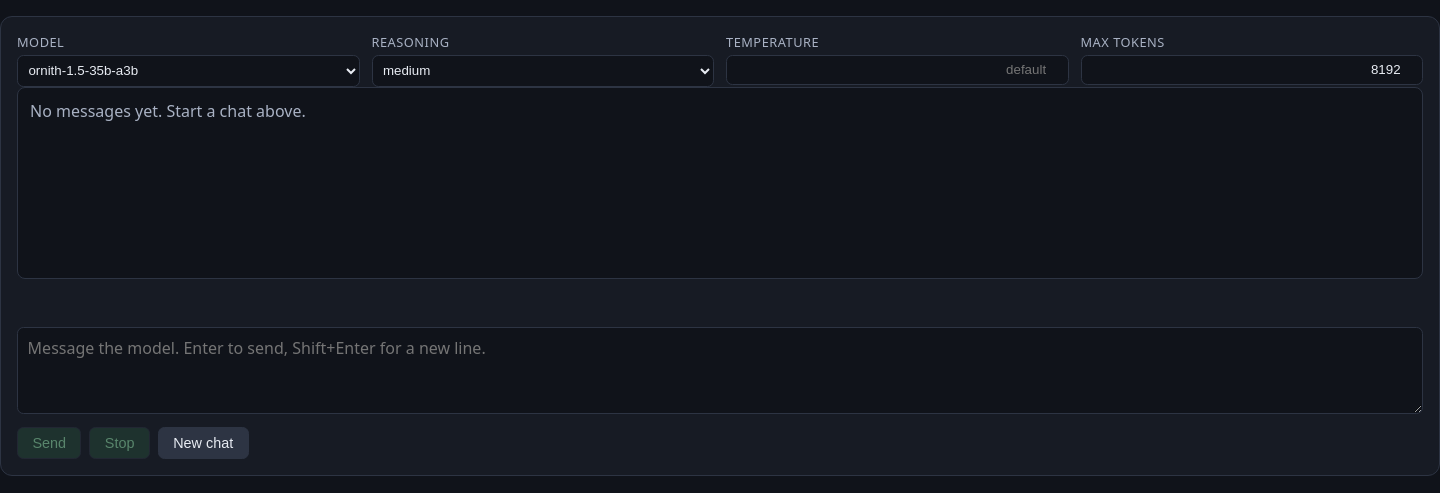
Test: ChatPlayground › disables sending while generating and lets the user stop
Replace the text in the text box with test id "prompt-input" with "Go" at coordinates (720, 370), box [17,327,1423,414]
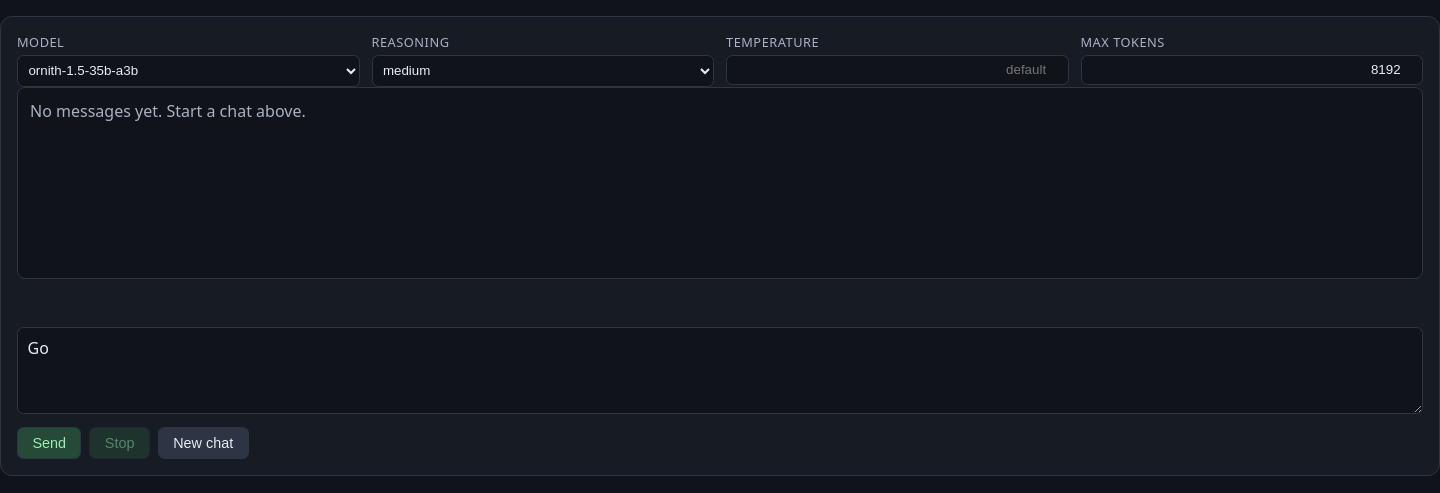
Click the button with test id "send-button" at coordinates (49, 443), box [17,427,81,459]
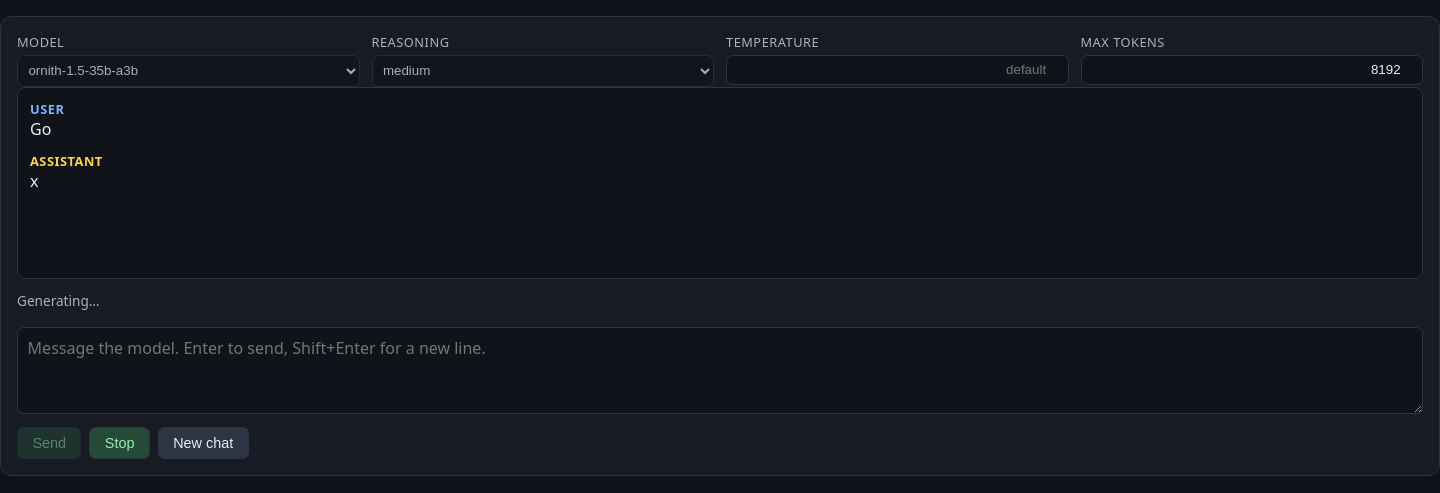
Result: the text "x" is shown at [30,170,38,192]
Result: the button with test id "stop-button" is enabled
Click the button with test id "stop-button" at coordinates (120, 443), box [89,427,150,459]
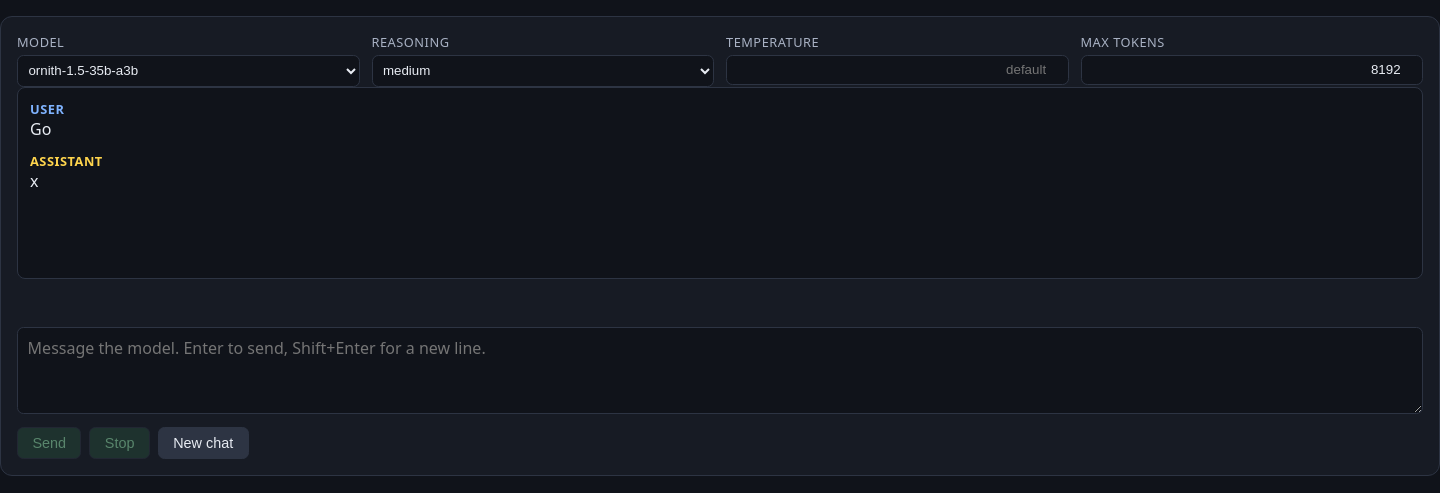
Result: the text with test id "status-indicator" is gone
